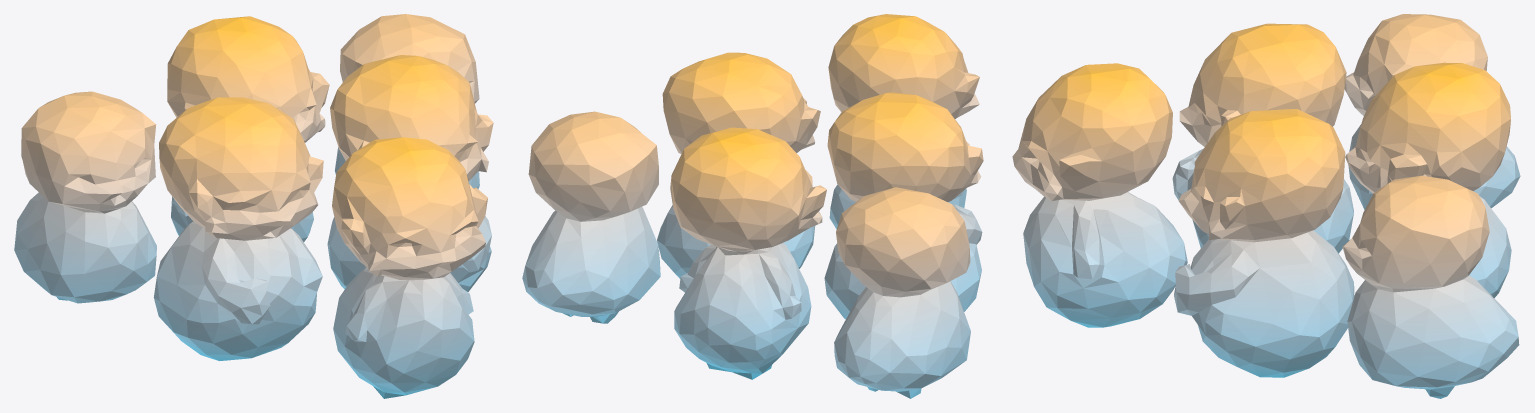
The model's file is 58_cyb_laser_gradient_fish_scales_2993_2026_10_03_ab085d.glb.
3 views of the same model, side by side, from view 1: azimuth 30°, elevation 25°; view 2: azimuth 150°, elevation 25°; view 3: azimuth 270°, elevation 25° (orthographic). The views are drawn at different scales.
Parts seen in each view (by area): view 1: geometry_0; view 2: geometry_0; view 3: geometry_0.
Boxes of the visible parts, x1=… form: geometry_0: x1=14, y1=14, x2=493, y2=398; geometry_0: x1=522, y1=14, x2=983, y2=398; geometry_0: x1=1012, y1=14, x2=1520, y2=398.
Bounding box in the file's own units: 1 × 0.5401 × 0.9931.
